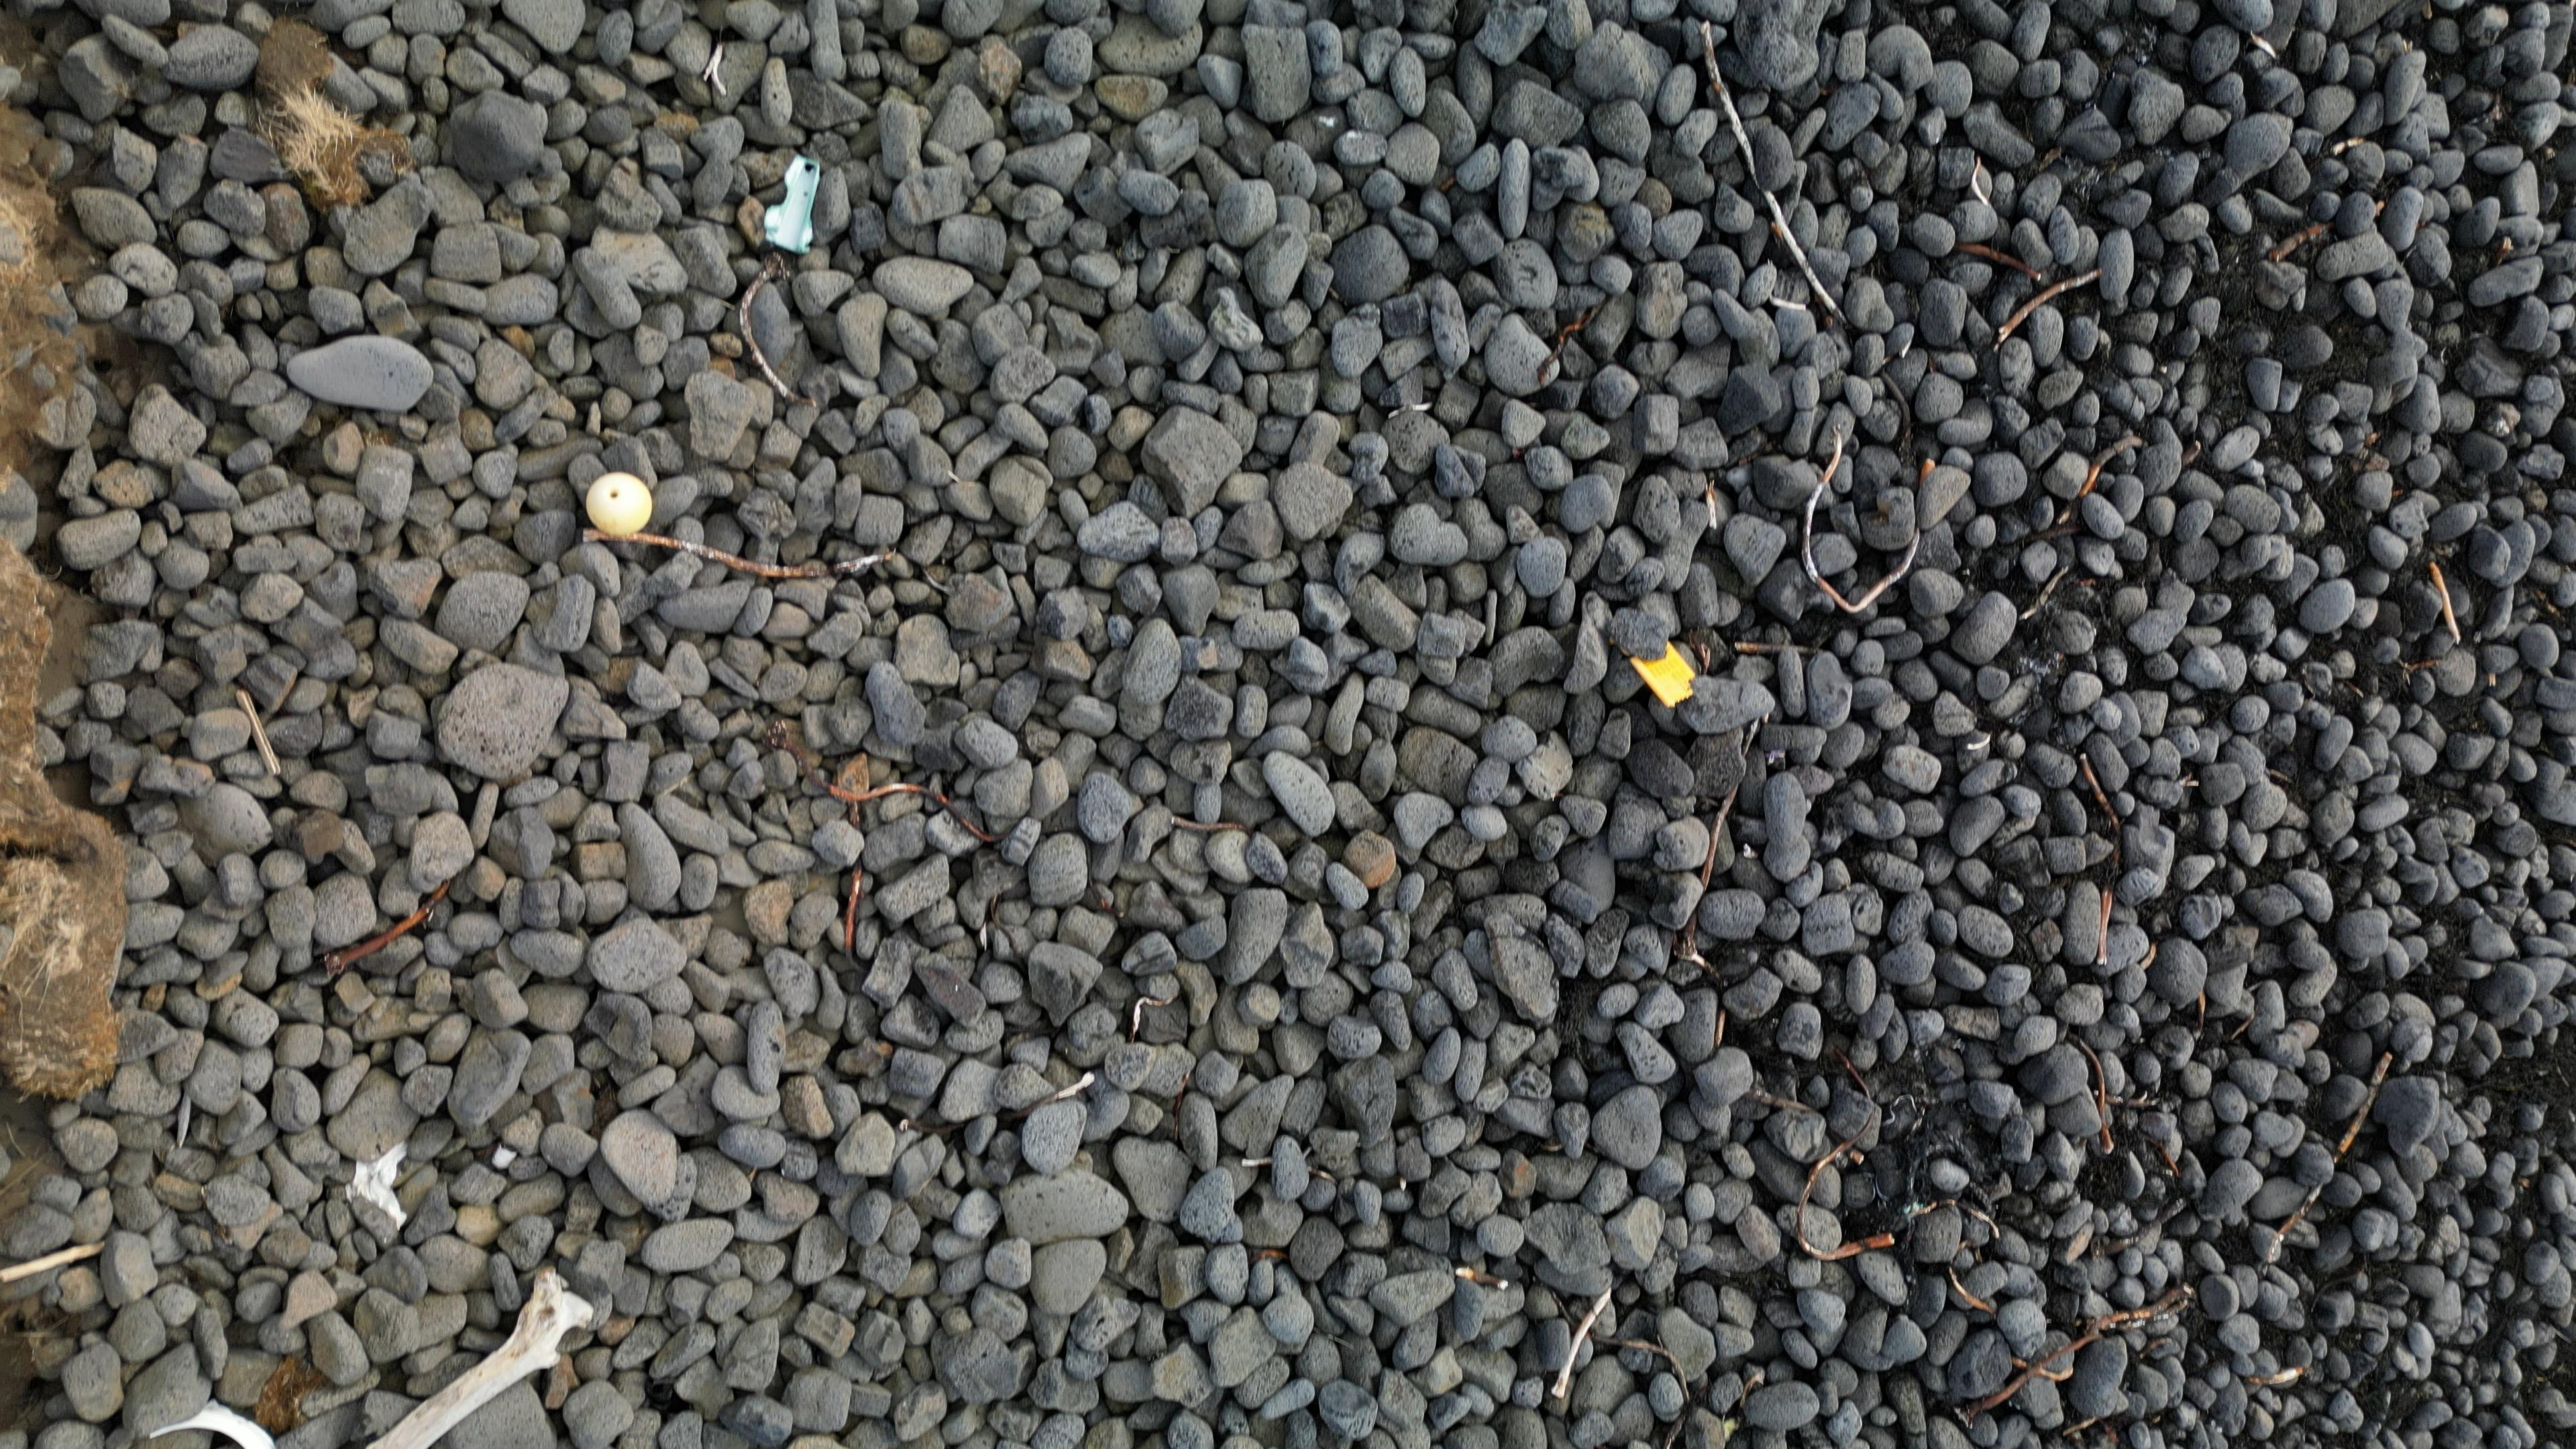trash: (151, 1403, 276, 1449), (765, 156, 820, 252), (584, 473, 654, 538), (1630, 644, 1696, 704)
